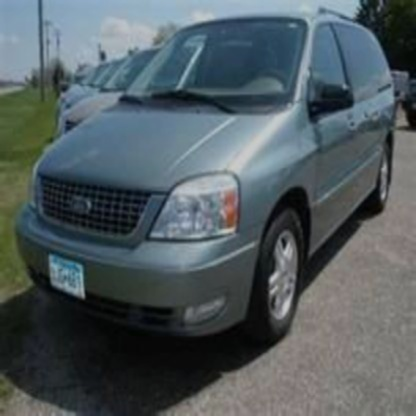Vehicle: (14, 8, 396, 344)
